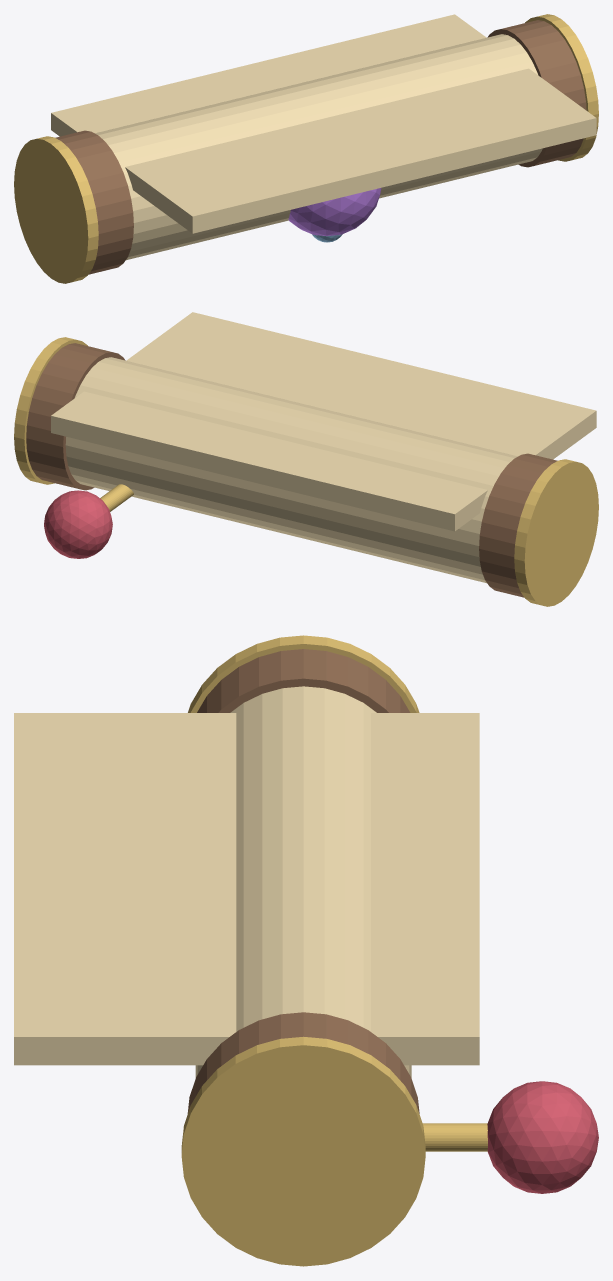
Rendered from efsun_nesnesi.glb.
The picture shows the model from 3 angles, top to bottom: view 1: azimuth 30°, elevation 25°; view 2: azimuth 150°, elevation 25°; view 3: azimuth 270°, elevation 25°; orthographic projection. The views are drawn at different scales.
Parts seen in each view (by area): view 1: world; view 2: world; view 3: world.
Boxes of the visible parts, x1=… form: world: x1=14, y1=14, x2=598, y2=283; world: x1=14, y1=312, x2=598, y2=606; world: x1=14, y1=635, x2=598, y2=1266.
Bounding box in the file's own units: 1.71 × 0.46 × 1.03.
